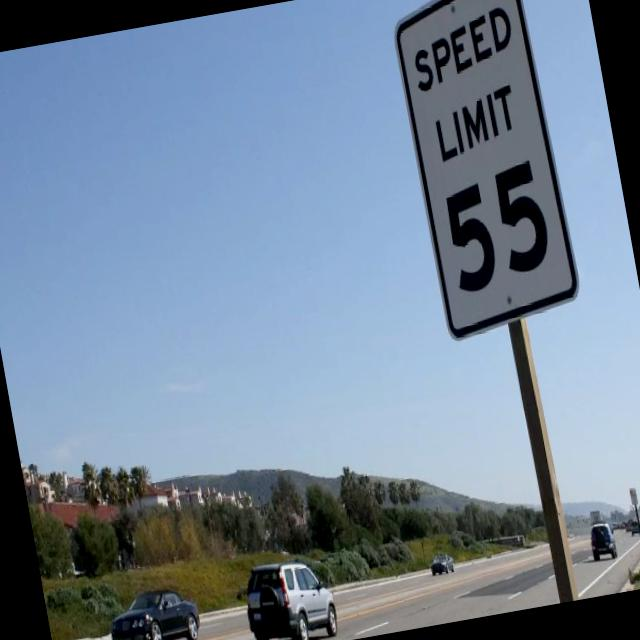Speed Limit Signs: (381, 0, 588, 346)
